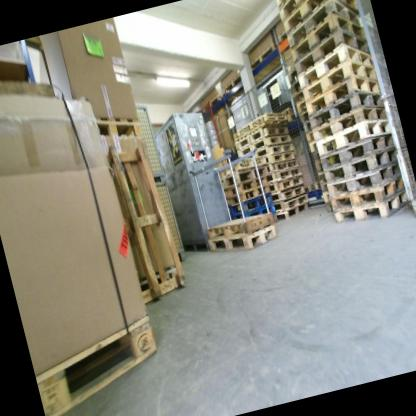pallet: (26, 304, 172, 416), (102, 130, 192, 306), (295, 39, 380, 90), (290, 25, 376, 75), (286, 10, 367, 61), (298, 56, 379, 103), (282, 0, 364, 46), (302, 72, 382, 115), (310, 118, 390, 156), (207, 218, 279, 259), (305, 90, 381, 125), (90, 105, 146, 152), (314, 137, 392, 170), (324, 151, 396, 186), (330, 180, 403, 213), (310, 107, 385, 138), (334, 195, 404, 227), (279, 0, 359, 28), (328, 169, 399, 197), (278, 0, 355, 20), (231, 109, 288, 135), (247, 40, 284, 75), (221, 165, 270, 189), (228, 197, 275, 219), (243, 122, 291, 143), (223, 153, 267, 175), (225, 186, 270, 207), (224, 178, 267, 196), (264, 133, 295, 157), (265, 166, 303, 185), (276, 204, 312, 223), (267, 176, 305, 194), (198, 92, 226, 116), (274, 195, 310, 213), (272, 186, 308, 203), (267, 158, 301, 174), (264, 150, 297, 166), (220, 76, 246, 96), (276, 30, 289, 43), (318, 171, 330, 184), (320, 182, 332, 194), (325, 201, 334, 212), (323, 193, 332, 202)
stillage: (378, 96, 416, 223), (148, 178, 191, 270), (133, 99, 167, 183)
